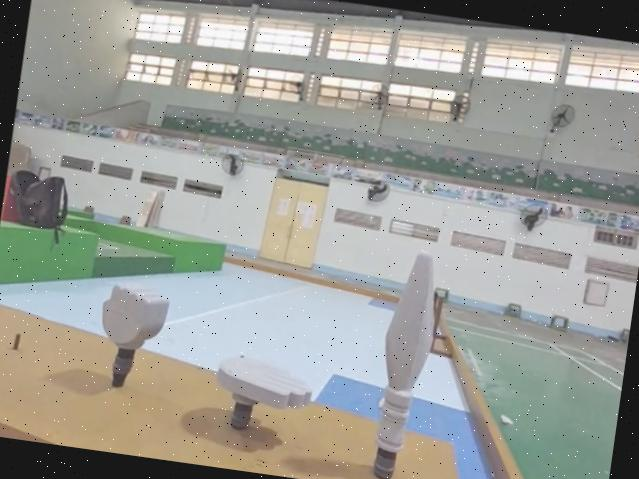Fist: (88, 278, 169, 393)
Hand: (207, 352, 316, 444)
Sph: (361, 248, 446, 479)
